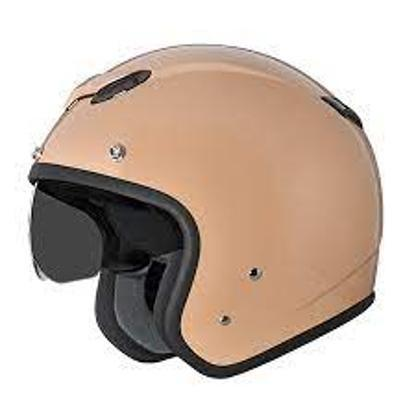not trash: (25, 39, 381, 378)
